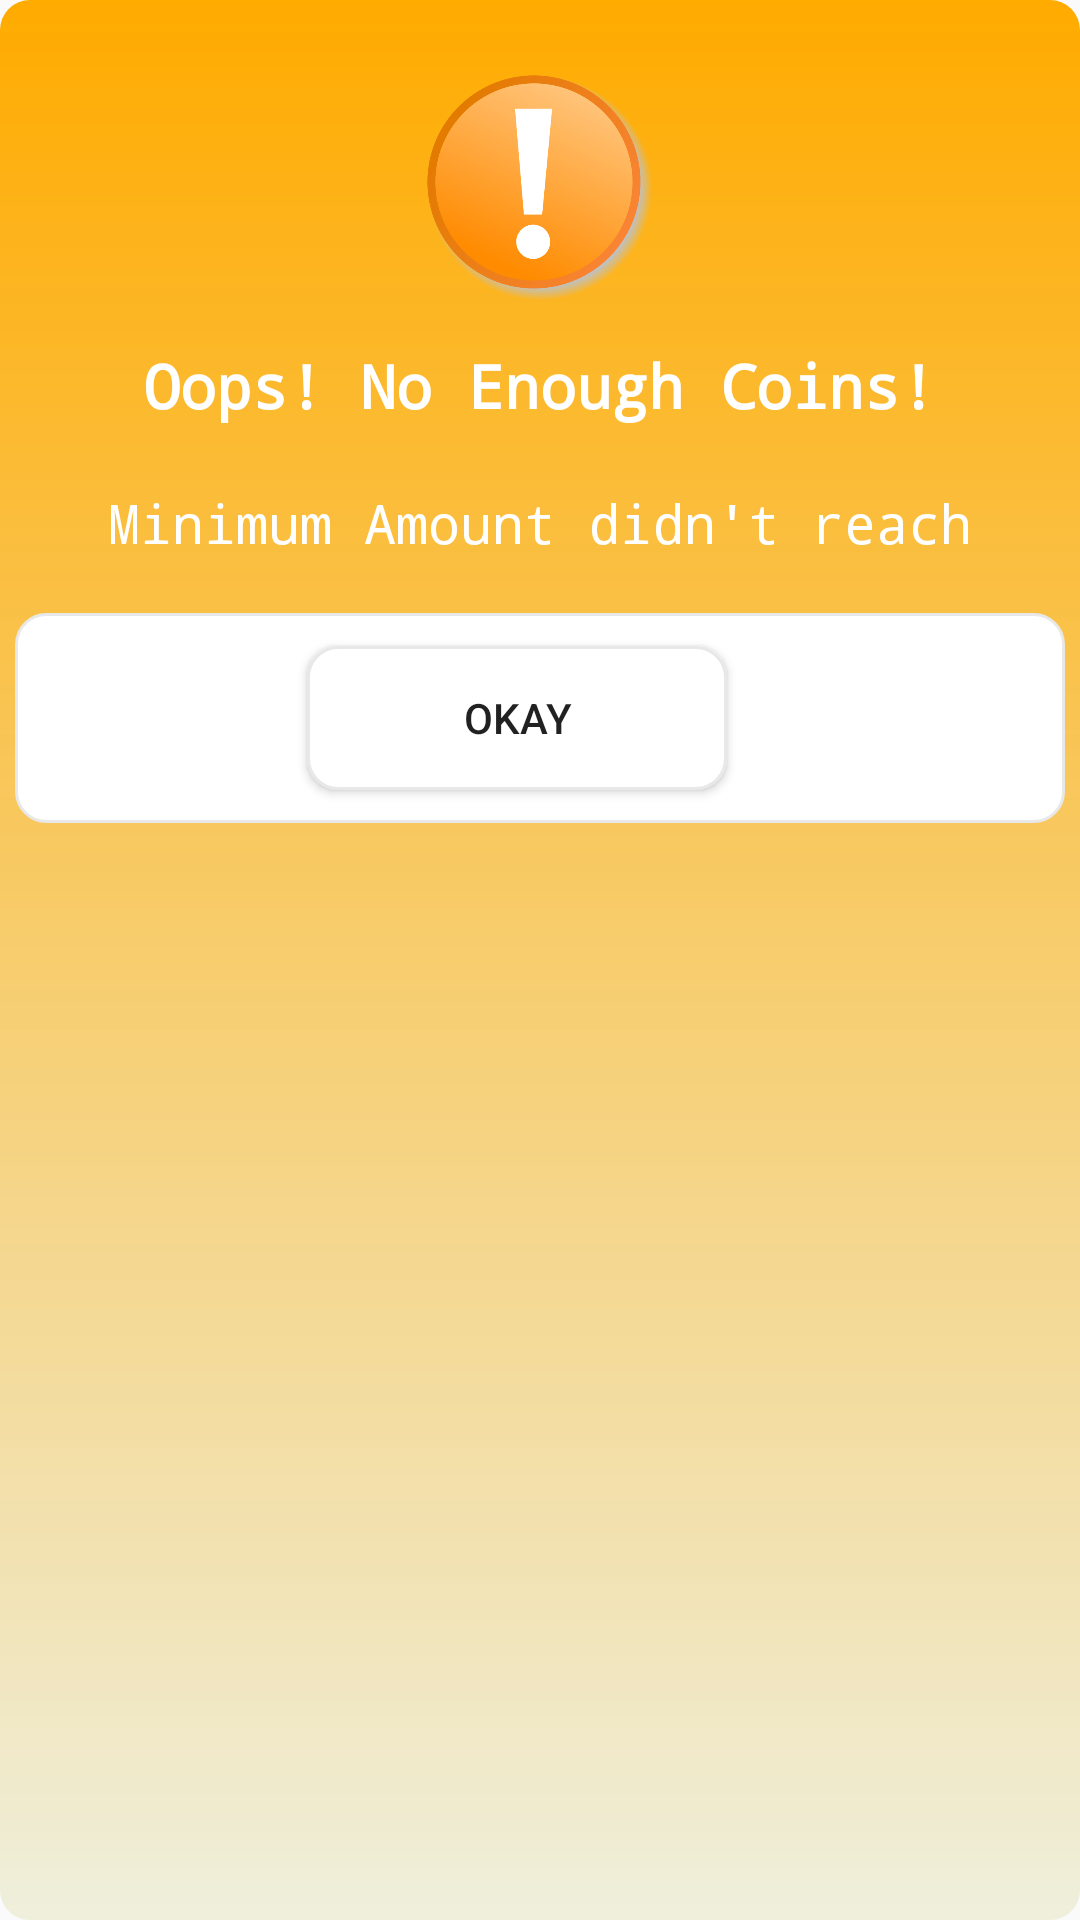

Point at icon controls on the screen. Image size 1080 × 1920, points as (x=x, y=y).
warning: (x=539, y=187)
